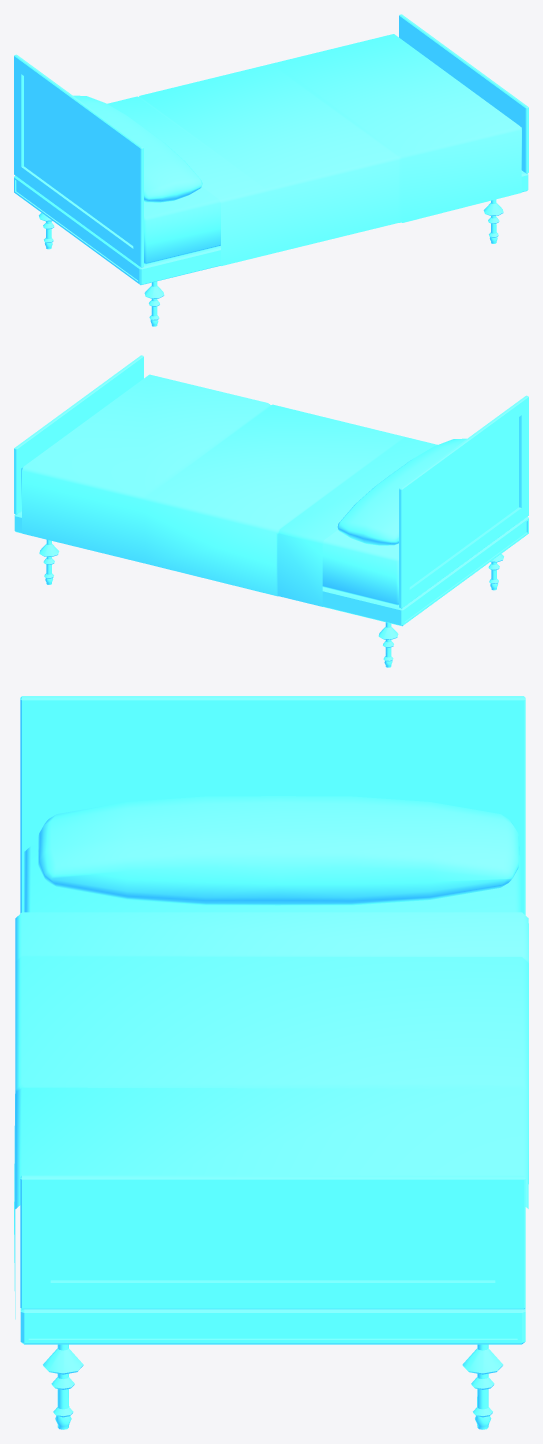
Rendered from Bed_Model_Story5.fbx.
The picture shows the model from 3 angles, top to bottom: view 1: azimuth 30°, elevation 25°; view 2: azimuth 150°, elevation 25°; view 3: azimuth 270°, elevation 25°; orthographic projection. The views are drawn at different scales.
Visible parts, largest first — view 1: Bed; view 2: Bed; view 3: Bed.
Boxes of the visible parts, box(x1,y1,x2,y2) form: Bed: box(14, 14, 528, 326); Bed: box(14, 355, 528, 667); Bed: box(14, 696, 528, 1429).
Size of the model in its own units: 236 by 111 by 136.
